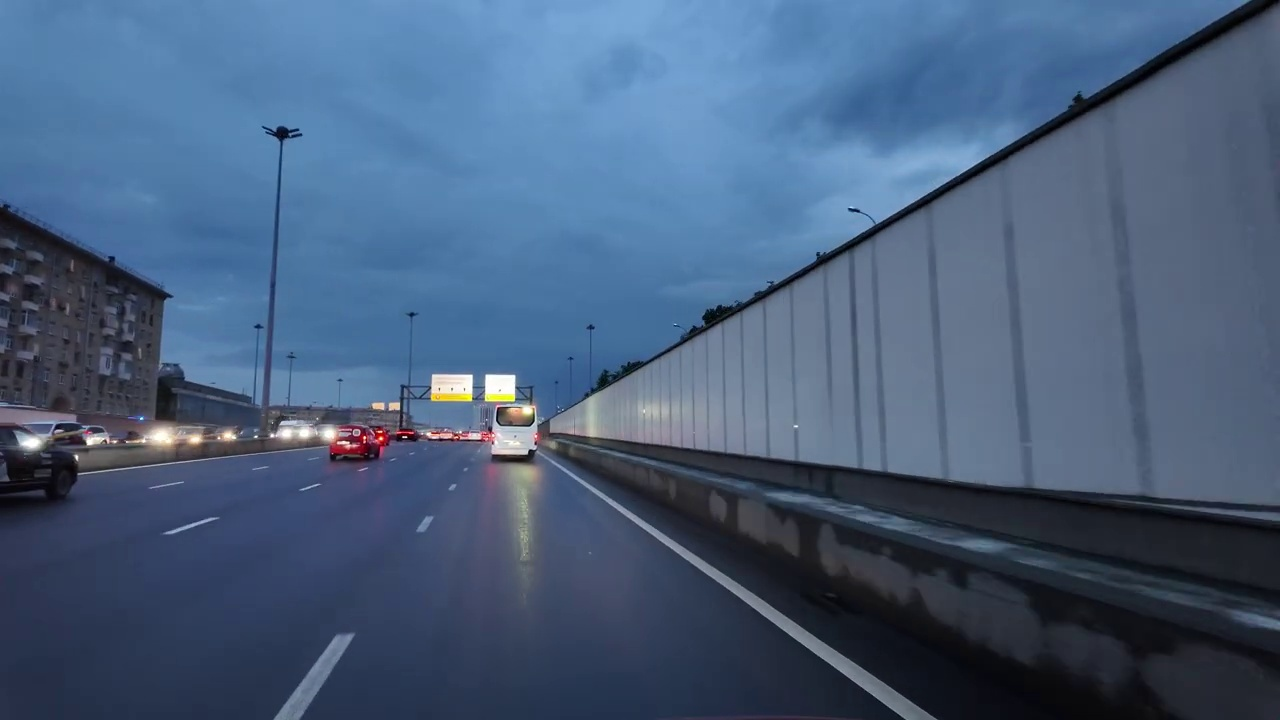apagada: (259, 119, 303, 149), (401, 306, 421, 326)
